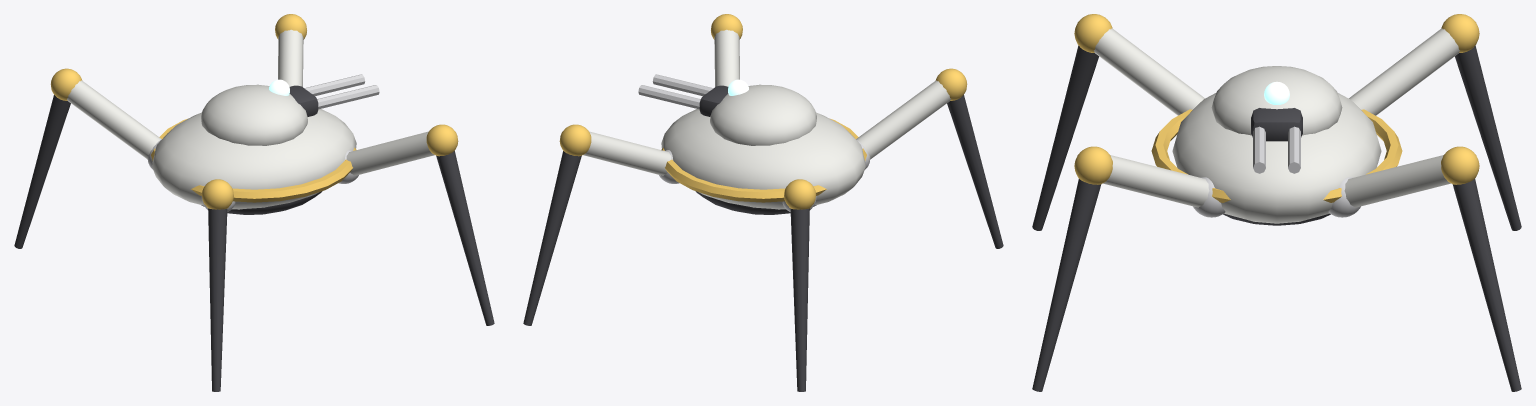
The model's file is rob_scout.glb.
3 views of the same model, side by side, from view 1: azimuth 30°, elevation 25°; view 2: azimuth 150°, elevation 25°; view 3: azimuth 270°, elevation 25° (orthographic). The views are drawn at different scales.
Visible parts, largest first — view 1: rob_scout, turret_m, limb_r0_m, limb_l1_m, limb_r1_m, limb_l0_m; view 2: rob_scout, turret_m, limb_l0_m, limb_r1_m, limb_l1_m, limb_r0_m; view 3: rob_scout, turret_m, limb_l0_m, limb_r0_m, limb_l1_m, limb_r1_m.
Part boxes in pixels (x1,y1,x2,y2): rob_scout: (151,109,356,214); turret_m: (201,74,379,145); limb_r0_m: (338,124,494,325); limb_l1_m: (14,68,161,248); limb_r1_m: (201,179,235,391); limb_l0_m: (275,14,306,86); rob_scout: (661,109,866,214); turret_m: (638,74,816,145); limb_l0_m: (523,124,679,325); limb_r1_m: (856,68,1003,248); limb_l1_m: (782,179,816,391); limb_r0_m: (711,14,742,86); rob_scout: (1151,93,1402,225); turret_m: (1211,66,1342,173); limb_l0_m: (1328,146,1521,391); limb_r0_m: (1032,146,1225,391); limb_l1_m: (1349,14,1521,230); limb_r1_m: (1032,14,1204,230).
Bounding box in the file's own units: 0.9037 × 0.6133 × 1.12.
